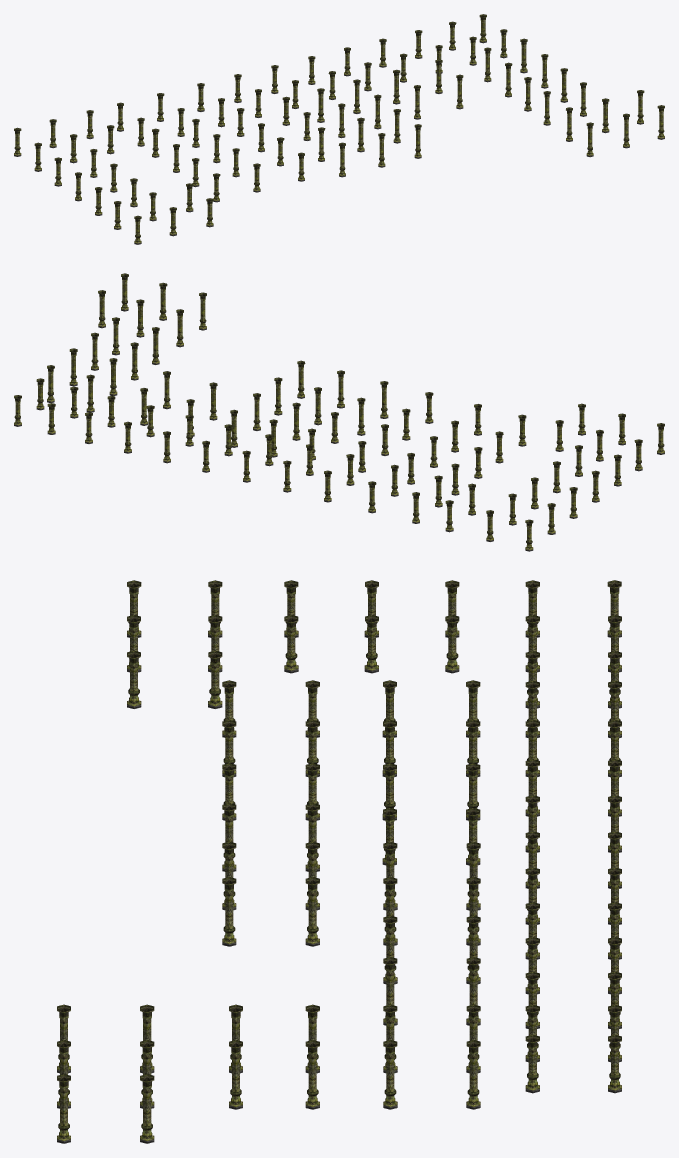
The model's file is Under_City_Hallway_2_wall03.FBX.
The picture shows the model from 3 angles, top to bottom: view 1: azimuth 30°, elevation 25°; view 2: azimuth 150°, elevation 25°; view 3: azimuth 270°, elevation 25°; orthographic projection. The views are drawn at different scales.
Visible parts, largest first — view 1: Object041; view 2: Object041; view 3: Object041.
Boxes of the visible parts, left/top/right/bottom form: Object041: left=14, top=14, right=664, bottom=244; Object041: left=14, top=273, right=664, bottom=551; Object041: left=57, top=580, right=621, bottom=1143.
Size of the model in its own units: 9943 by 581 by 4741.
Materials: 1 (1 with a texture image).
